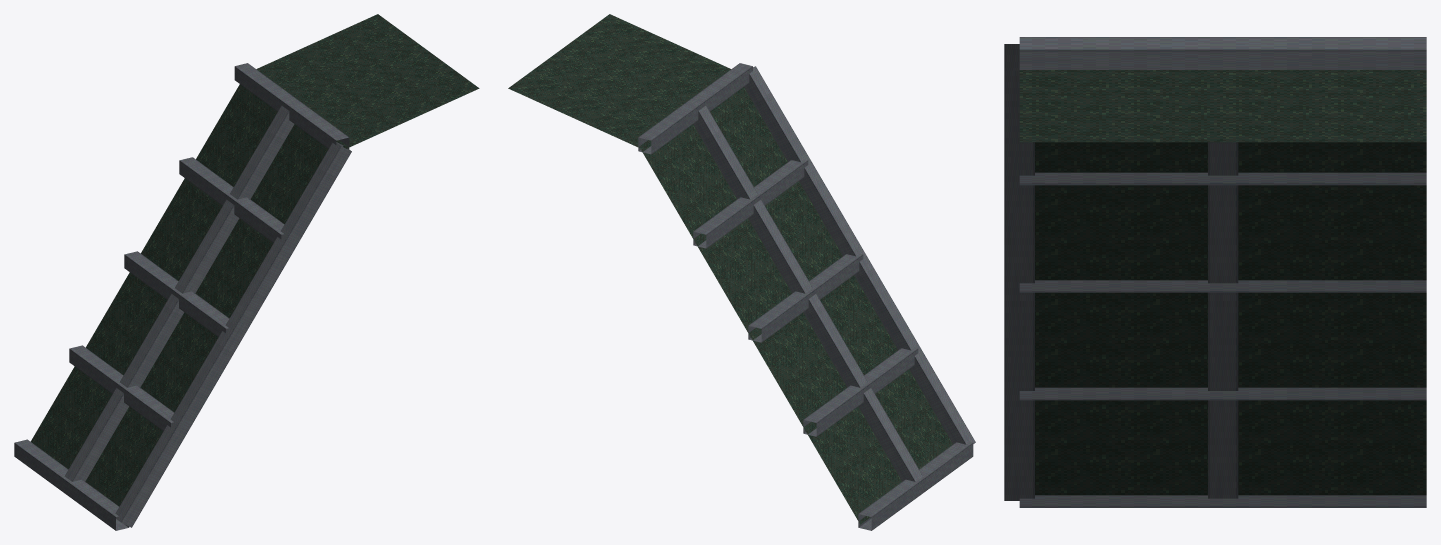
File: mtn_lattice_slope_g.glb
3 views of the same model, side by side, from view 1: azimuth 30°, elevation 25°; view 2: azimuth 150°, elevation 25°; view 3: azimuth 270°, elevation 25° (orthographic). The views are drawn at different scales.
Parts seen in each view (by area): view 1: mtn_lattice_slope_g; view 2: mtn_lattice_slope_g; view 3: mtn_lattice_slope_g.
Boxes of the visible parts, box(x1,y1,x2,y2) form: mtn_lattice_slope_g: box(14, 14, 479, 530); mtn_lattice_slope_g: box(508, 14, 975, 530); mtn_lattice_slope_g: box(1004, 37, 1426, 507).
Size of the model in its own units: 8.26 by 7.67 by 4.15.
2 materials, 2 textured.
